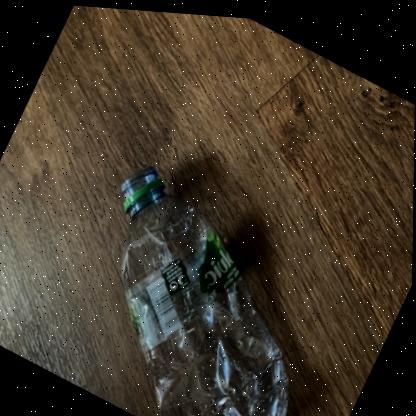Plastic: (122, 164, 290, 416)
